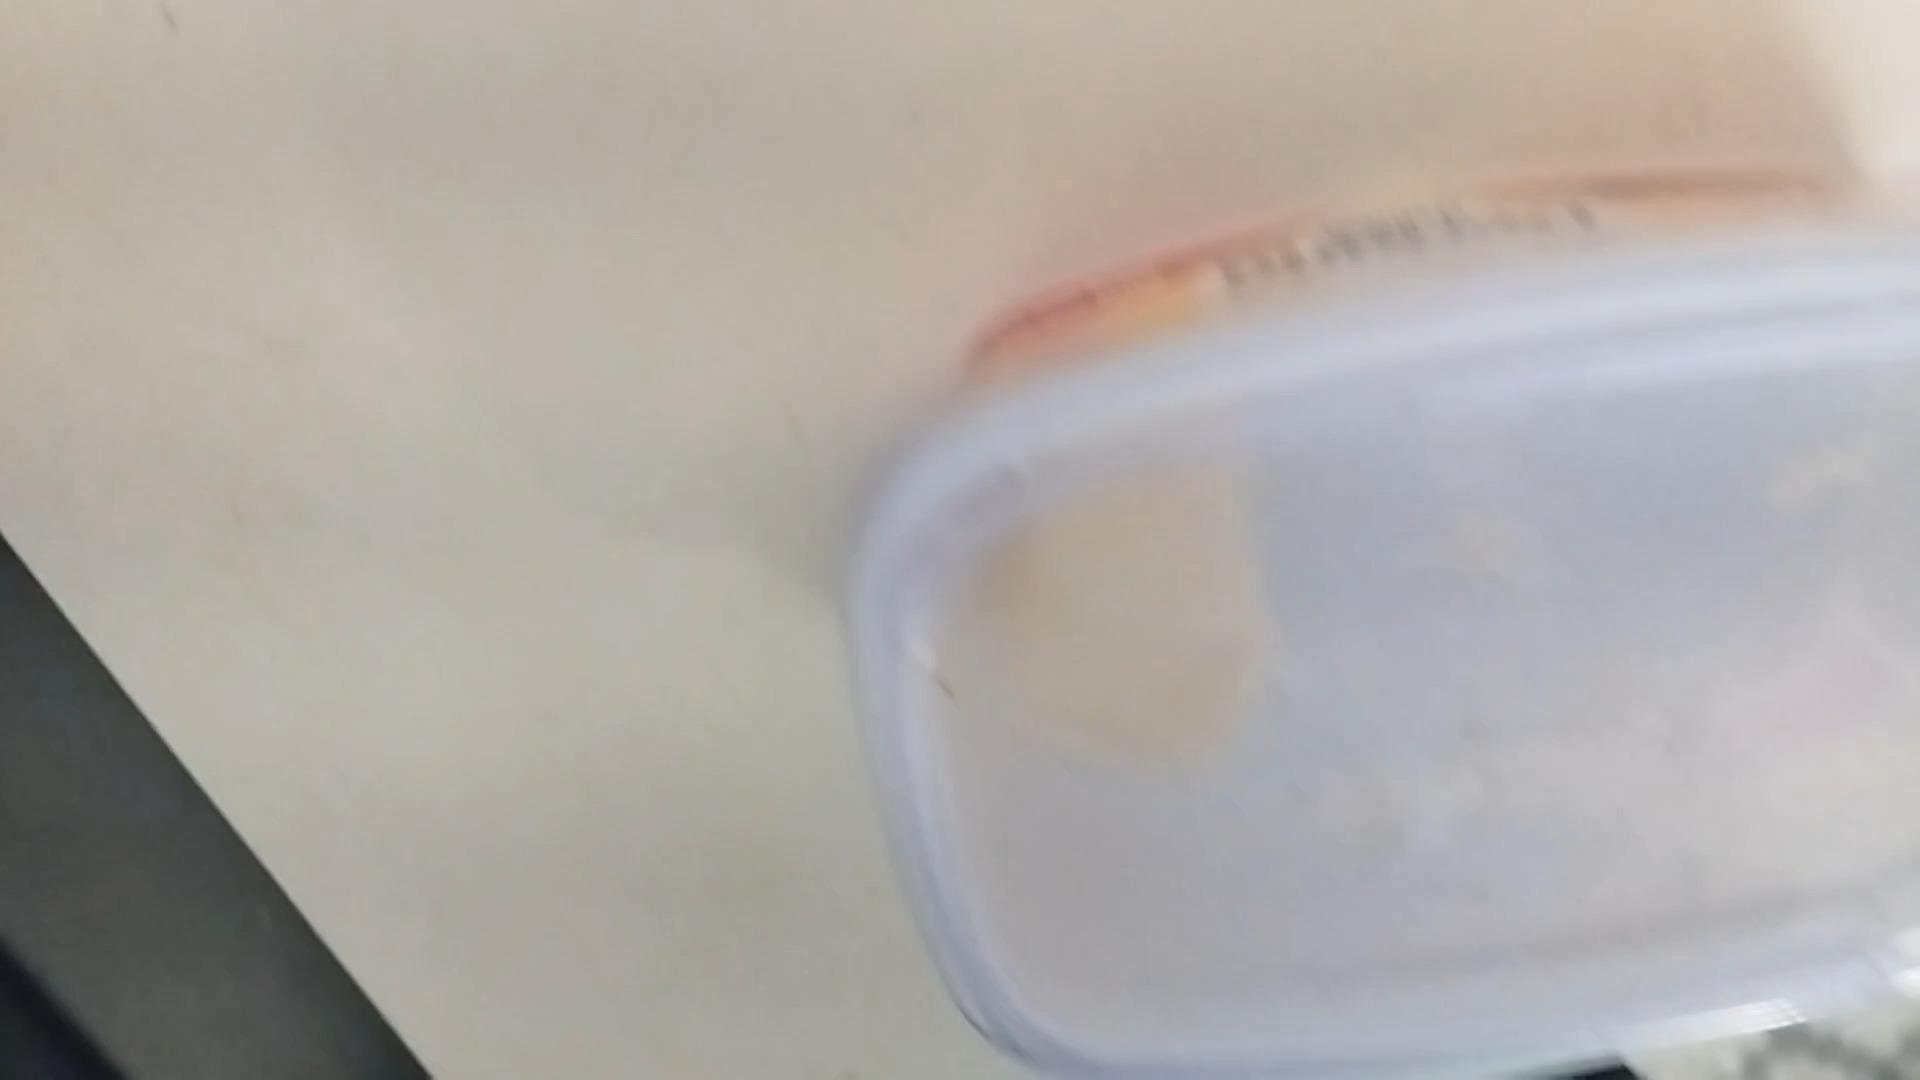butter: (853, 206, 1915, 1073)
